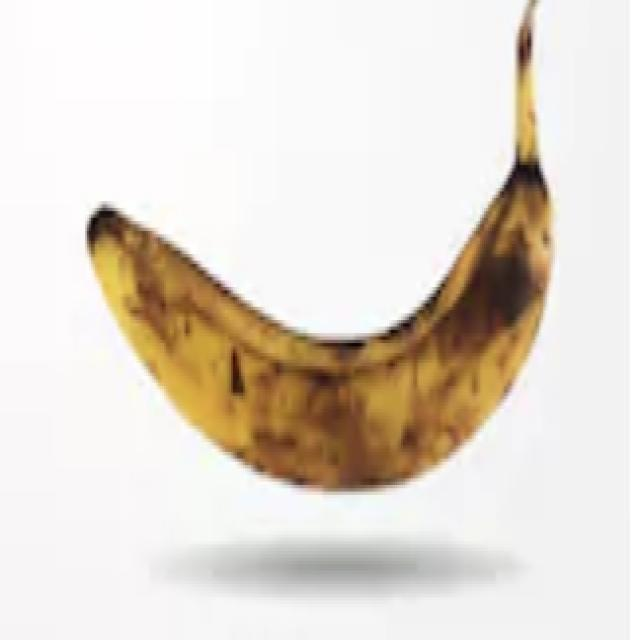rotten-banana: (85, 0, 555, 488)
